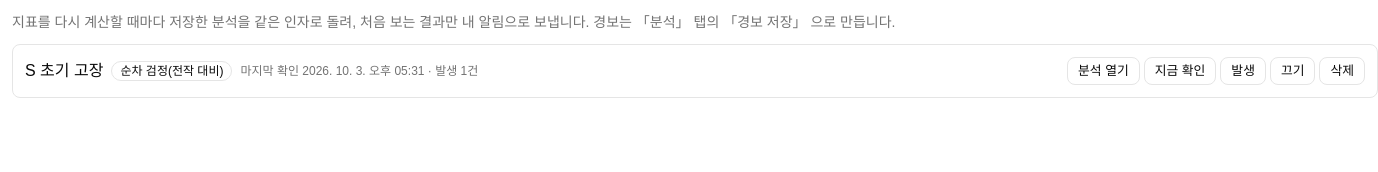
it: 경보 탭 › 발생은 새것부터, 만들 때부터 있던 것은 그렇게 적는다
The image size is (1378, 172).
Click the button "발생". click: (1243, 71)
box: [1220, 57, 1266, 85]
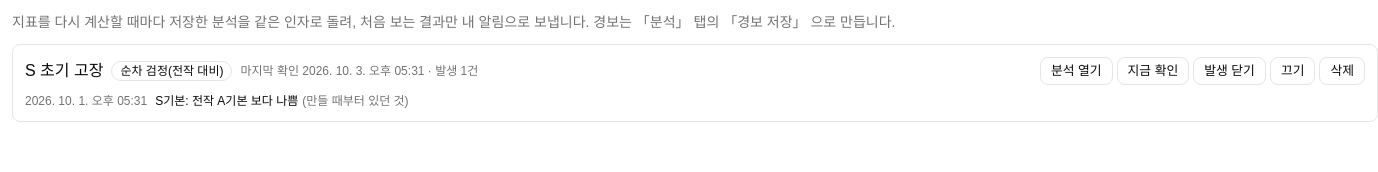
Check: the list named "발생" shows "(만들 때부터 있던 것)", box [302, 94, 409, 108]
